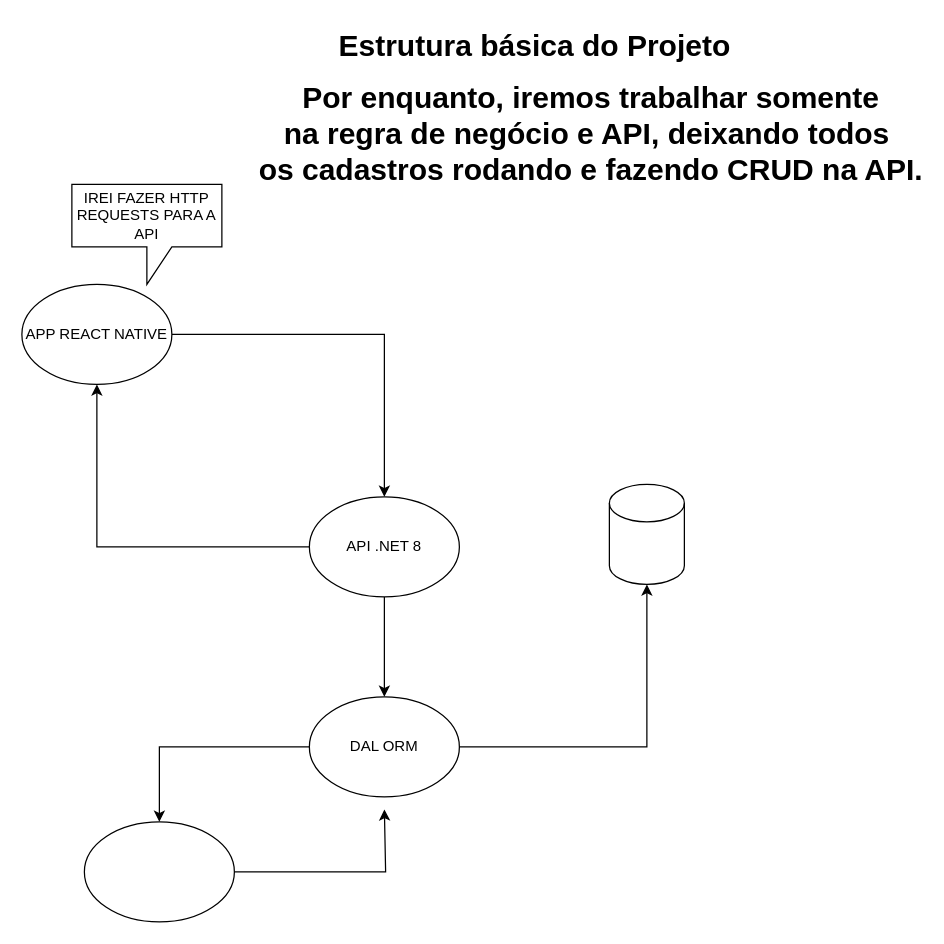
The diagram is 944 pixels wide and 944 high, and some of its shapes have lost their labels. The shapes that lost their labels are listed below. From the top down, each one's centre as x and y in pixels, then its label:
At point 646,533: "SQL SERVER".
At point 158,871: "CORE C#".
